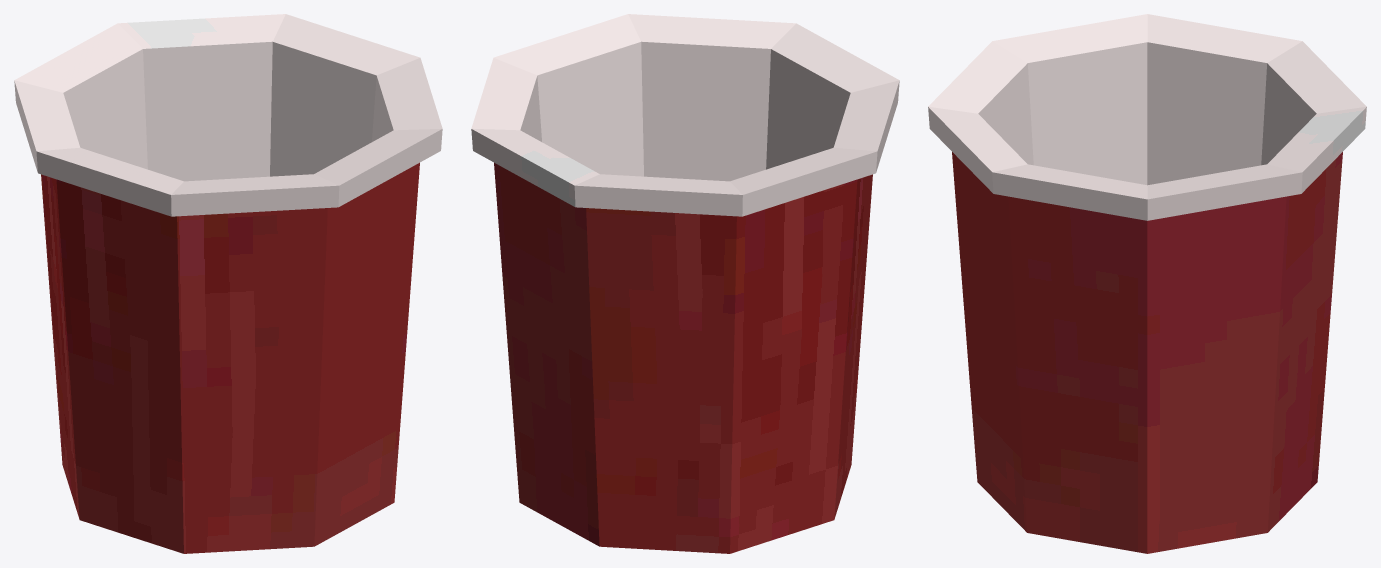
File: cup4.glb
3 views of the same model, side by side, from view 1: azimuth 30°, elevation 25°; view 2: azimuth 150°, elevation 25°; view 3: azimuth 270°, elevation 25° (orthographic).
Visible parts, largest first — view 1: cup4; view 2: cup4; view 3: cup4.
Part boxes in pixels (x1,y1,x2,y2): cup4: [14, 14, 442, 553]; cup4: [471, 14, 899, 553]; cup4: [928, 14, 1366, 553].
Size of the model in its own units: 0.1271 by 0.12 by 0.1271.
1 material, 1 textured.
